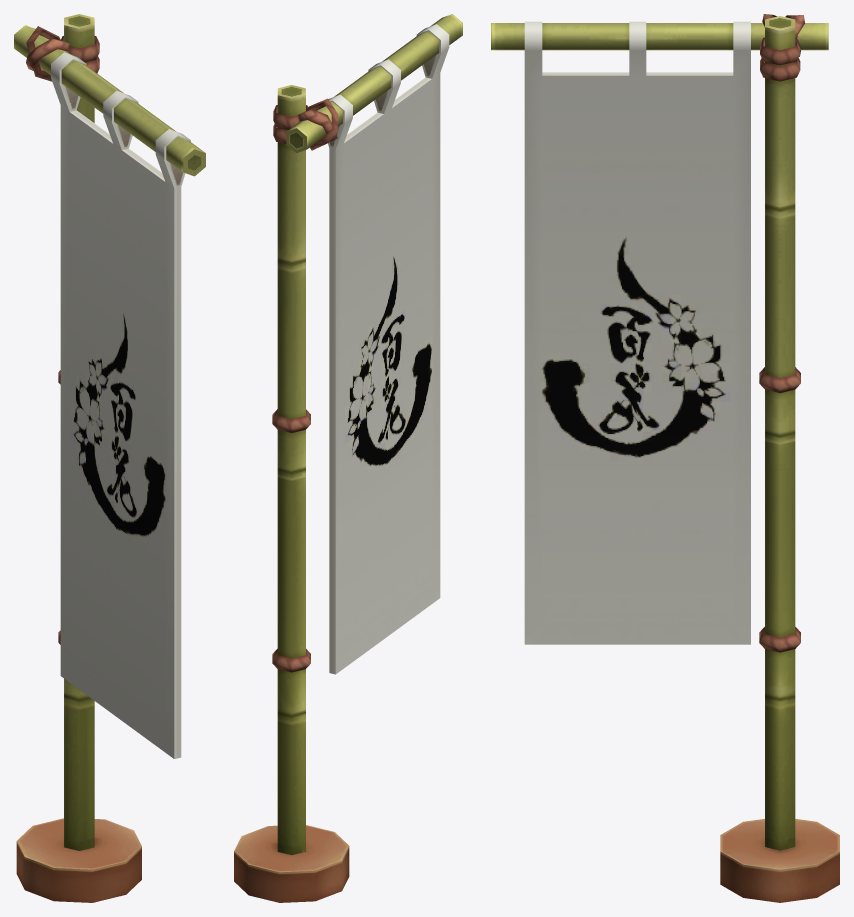
Rendered from my_hyakkiyako_01_bamboobanner_01.glb.
3 views of the same model, side by side, from view 1: azimuth 30°, elevation 25°; view 2: azimuth 150°, elevation 25°; view 3: azimuth 270°, elevation 25° (orthographic). The views are drawn at different scales.
Parts seen in each view (by area): view 1: my_hyakkiyako_01_bamboobanner_01; view 2: my_hyakkiyako_01_bamboobanner_01; view 3: my_hyakkiyako_01_bamboobanner_01.
Boxes of the visible parts, left/top/right/bottom form: my_hyakkiyako_01_bamboobanner_01: left=14, top=14, right=205, bottom=902; my_hyakkiyako_01_bamboobanner_01: left=234, top=14, right=462, bottom=902; my_hyakkiyako_01_bamboobanner_01: left=491, top=14, right=839, bottom=902.
Size of the model in its own units: 0.00187 by 0.014 by 0.0052.
1 material, 1 textured.
